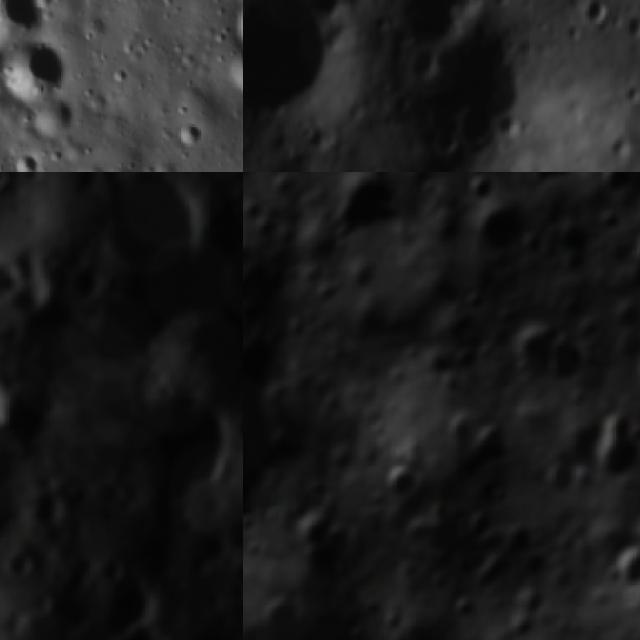crater: (405, 17, 556, 172), (108, 387, 243, 521), (82, 172, 225, 286), (243, 0, 367, 129), (90, 562, 164, 640), (379, 0, 479, 55), (0, 34, 76, 102), (540, 327, 602, 398), (248, 582, 317, 640), (587, 424, 640, 493), (465, 412, 520, 476), (25, 90, 90, 144), (19, 478, 74, 534), (369, 456, 424, 509), (599, 534, 640, 602), (437, 404, 488, 455), (293, 504, 340, 553), (538, 453, 584, 501), (0, 242, 35, 305), (504, 172, 598, 193), (0, 0, 41, 47), (458, 172, 505, 213), (0, 359, 22, 443), (0, 538, 45, 579), (443, 586, 482, 628), (454, 282, 494, 321), (246, 210, 286, 247), (605, 296, 640, 337), (591, 202, 630, 238), (576, 0, 621, 30), (221, 35, 243, 96), (595, 172, 639, 200), (176, 115, 210, 148), (266, 172, 300, 201), (243, 192, 271, 227), (10, 145, 46, 172), (0, 172, 27, 207), (625, 344, 640, 400), (0, 423, 12, 485), (563, 172, 608, 184), (52, 160, 95, 172)
